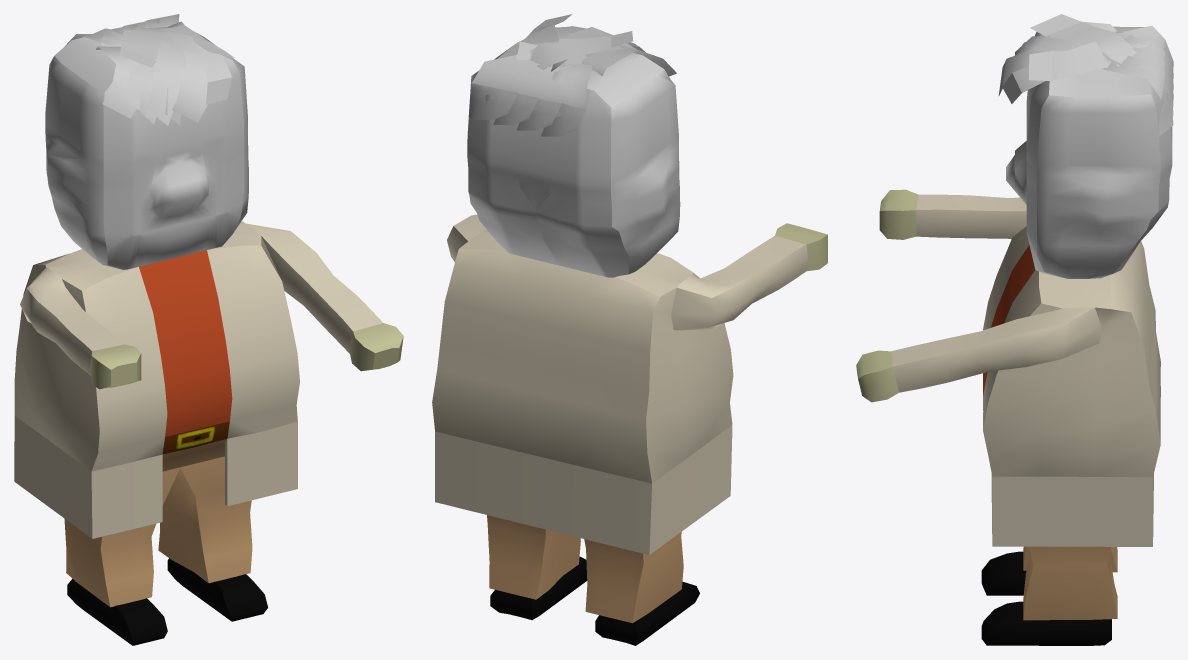
File: Zombie_1.fbx
3 renders of one model, left to right at view 1: azimuth 30°, elevation 25°; view 2: azimuth 150°, elevation 25°; view 3: azimuth 270°, elevation 25°, orthographic. The views are drawn at different scales.
Parts seen in each view (by area): view 1: polySurface22; view 2: polySurface22; view 3: polySurface22.
Part boxes in pixels (left/top/right/bottom): polySurface22: left=14, top=14, right=403, bottom=645; polySurface22: left=432, top=14, right=827, bottom=645; polySurface22: left=856, top=14, right=1173, bottom=645.
Size of the model in its own units: 9.6 by 17.56 by 8.74.
